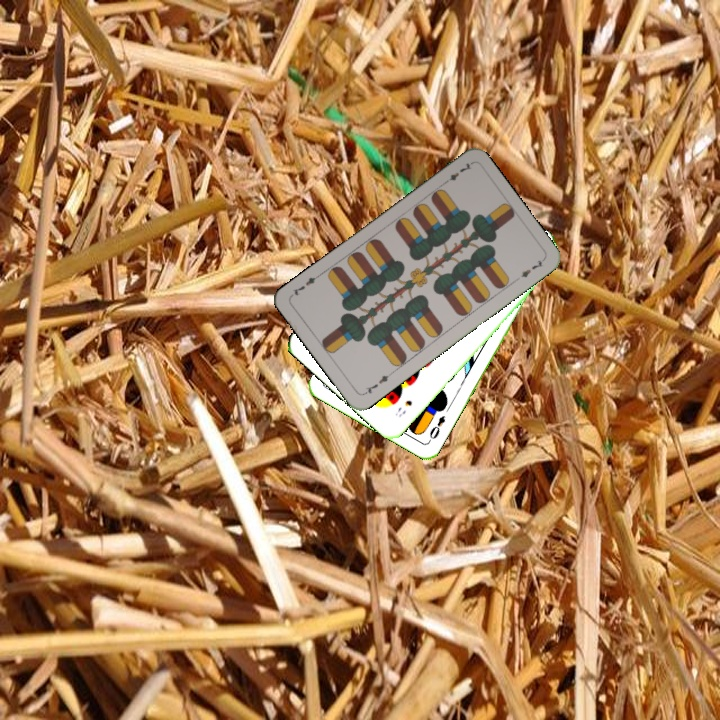E7: (360, 368, 395, 397), (439, 159, 474, 187)
EO: (425, 411, 448, 445)
S8: (391, 396, 415, 420)
